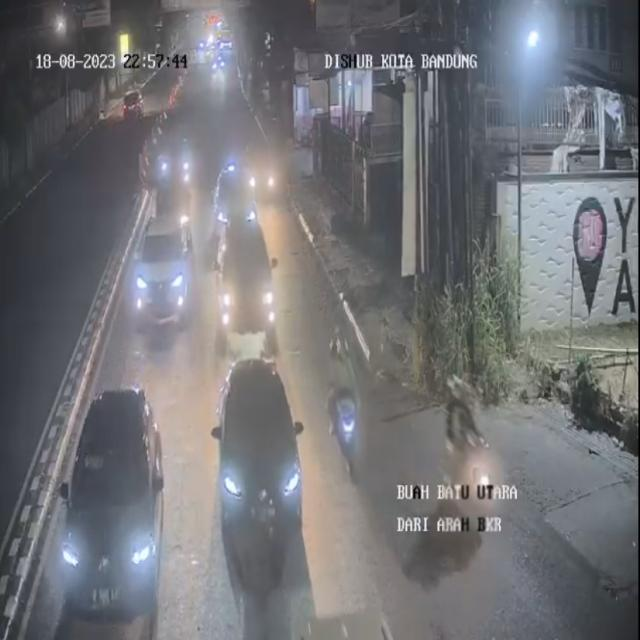cars: (54, 386, 166, 638), (212, 358, 310, 570), (218, 217, 284, 369), (130, 209, 192, 333), (152, 128, 200, 222), (213, 157, 257, 241), (248, 137, 283, 208)
motorcycle: (442, 371, 498, 537), (331, 373, 365, 478)
